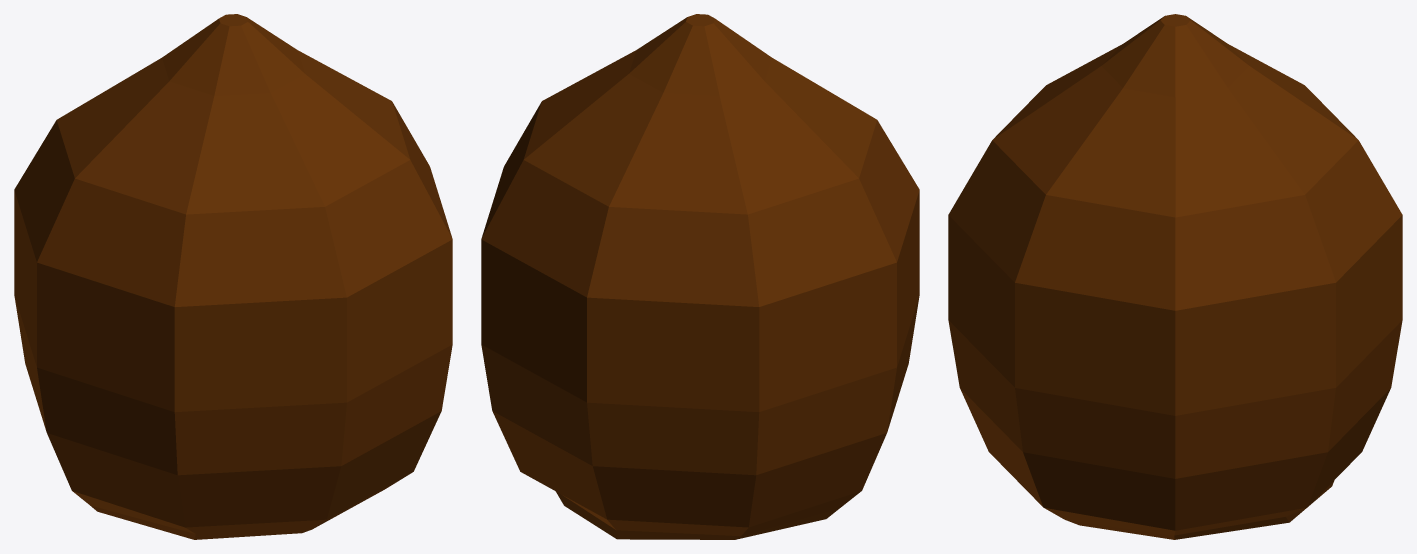
Rendered from hazelnut02.obj.
3 renders of one model, left to right at view 1: azimuth 30°, elevation 25°; view 2: azimuth 150°, elevation 25°; view 3: azimuth 270°, elevation 25°, orthographic.
Visible parts, largest first — view 1: Cylinder_Cylinder.002; view 2: Cylinder_Cylinder.002; view 3: Cylinder_Cylinder.002.
Part boxes in pixels (x1,y1,x2,y2): Cylinder_Cylinder.002: (14, 14, 452, 539); Cylinder_Cylinder.002: (481, 14, 919, 539); Cylinder_Cylinder.002: (948, 14, 1402, 539).
Size of the model in its own units: 0.0186 by 0.0214 by 0.0186.
Materials: 1 (1 with a texture image).
